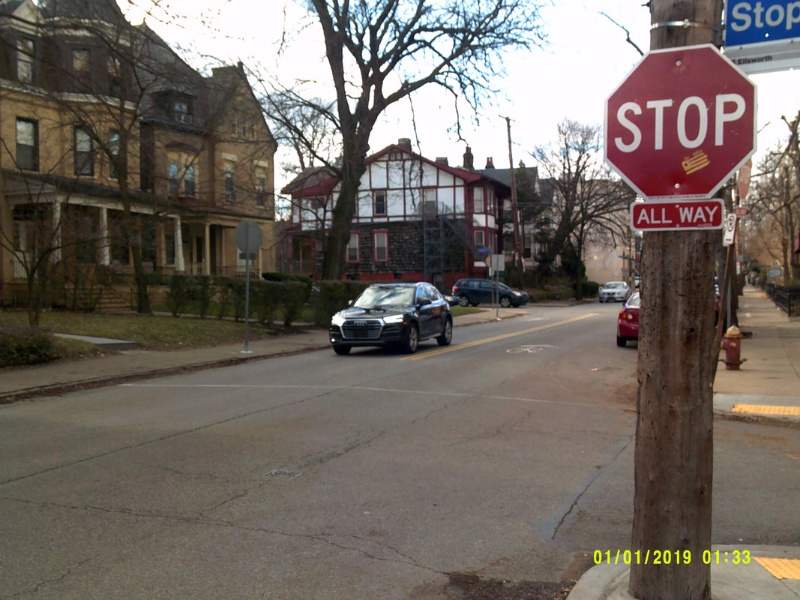stop sign: (601, 40, 758, 202)
